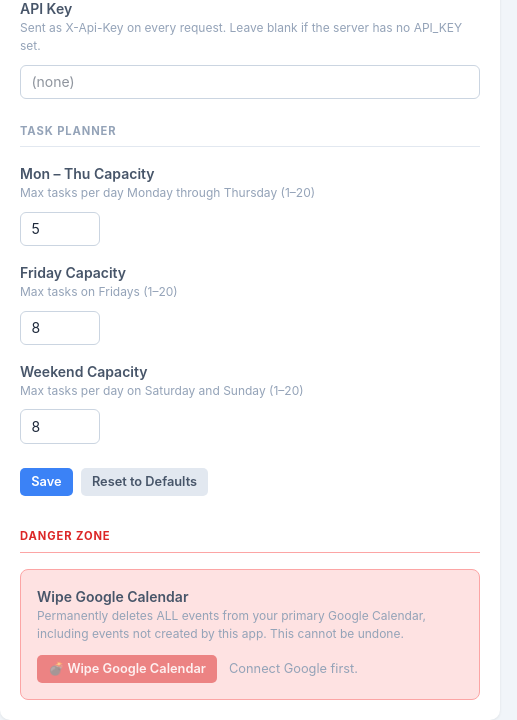
Test: ConfigPage — save › shows "✓ Saved" feedback after clicking Save
(page scrolled)
Click the button "Save".
click(46, 482)  # box [20,468,73,496]
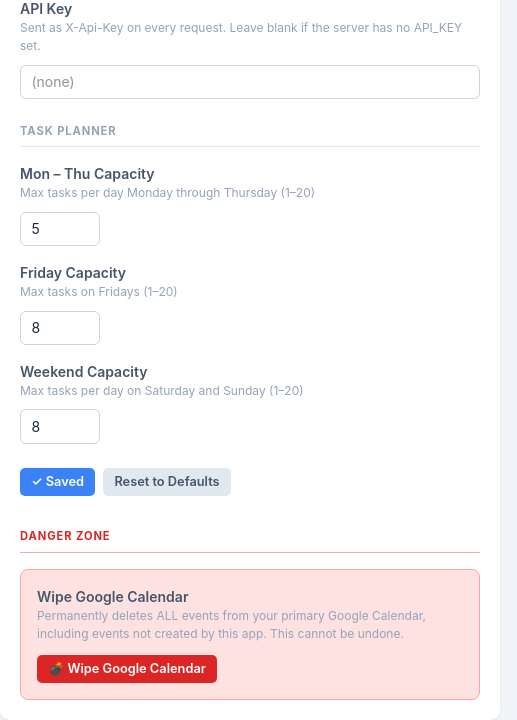
Expected: the button "✓ Saved" is shown, [20,468,95,496]
